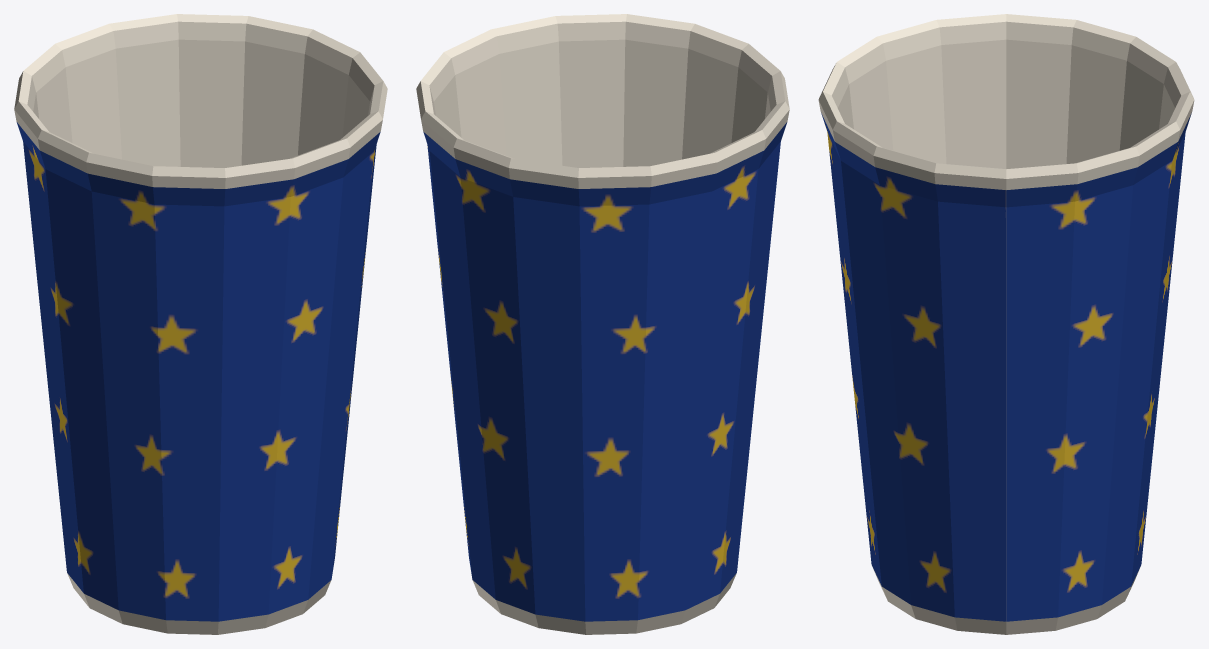
The model's file is party_cup_stars.glb.
3 views of the same model, side by side, from view 1: azimuth 30°, elevation 25°; view 2: azimuth 150°, elevation 25°; view 3: azimuth 270°, elevation 25° (orthographic).
Parts seen in each view (by area): view 1: party_cup_stars; view 2: party_cup_stars; view 3: party_cup_stars.
Part boxes in pixels (x1,y1,x2,y2): party_cup_stars: (14, 14, 387, 634); party_cup_stars: (416, 14, 789, 634); party_cup_stars: (818, 14, 1194, 634).
Size of the model in its own units: 0.085 by 0.122 by 0.085.
1 material, 1 textured.
